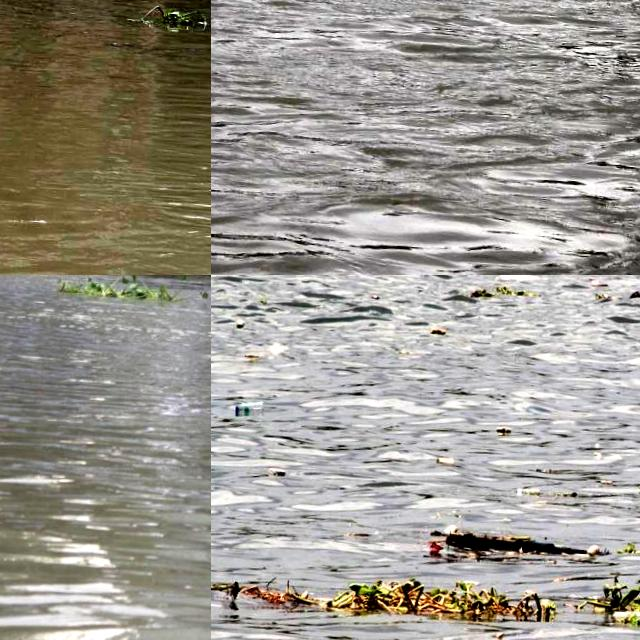water-hyacinth: (332, 569, 563, 628), (51, 276, 190, 308), (590, 554, 640, 636), (132, 1, 212, 36), (1, 1, 31, 23)
